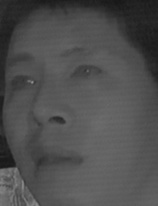eye: (69, 63, 102, 83), (10, 72, 38, 93)
mouth: (26, 142, 83, 178)
